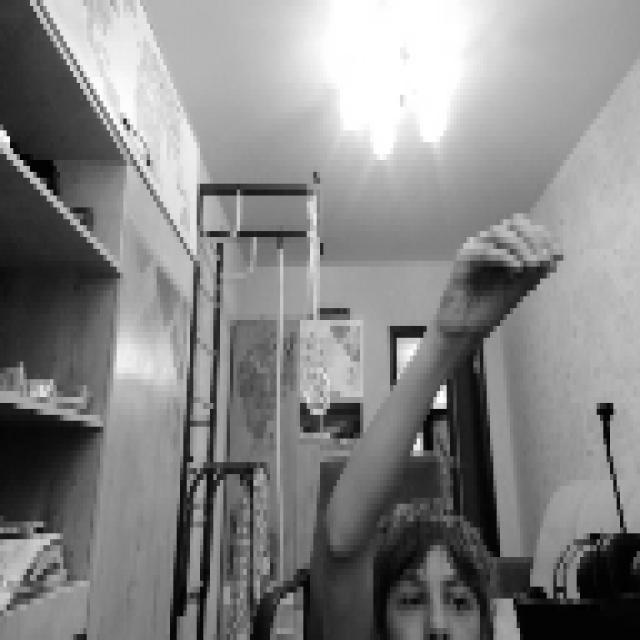left_click: (443, 196, 557, 320)
